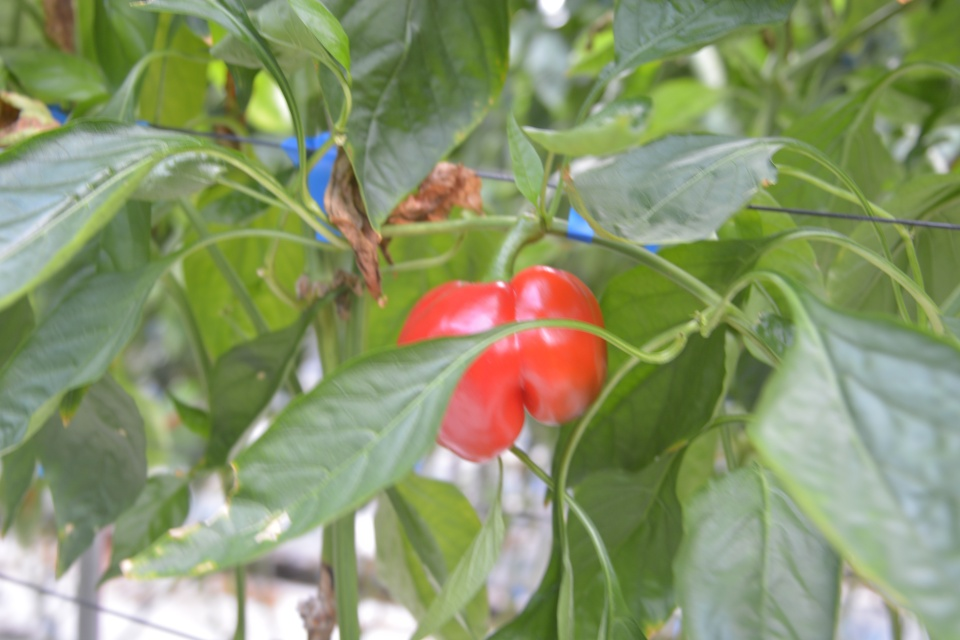fruit: (397, 261, 610, 461)
